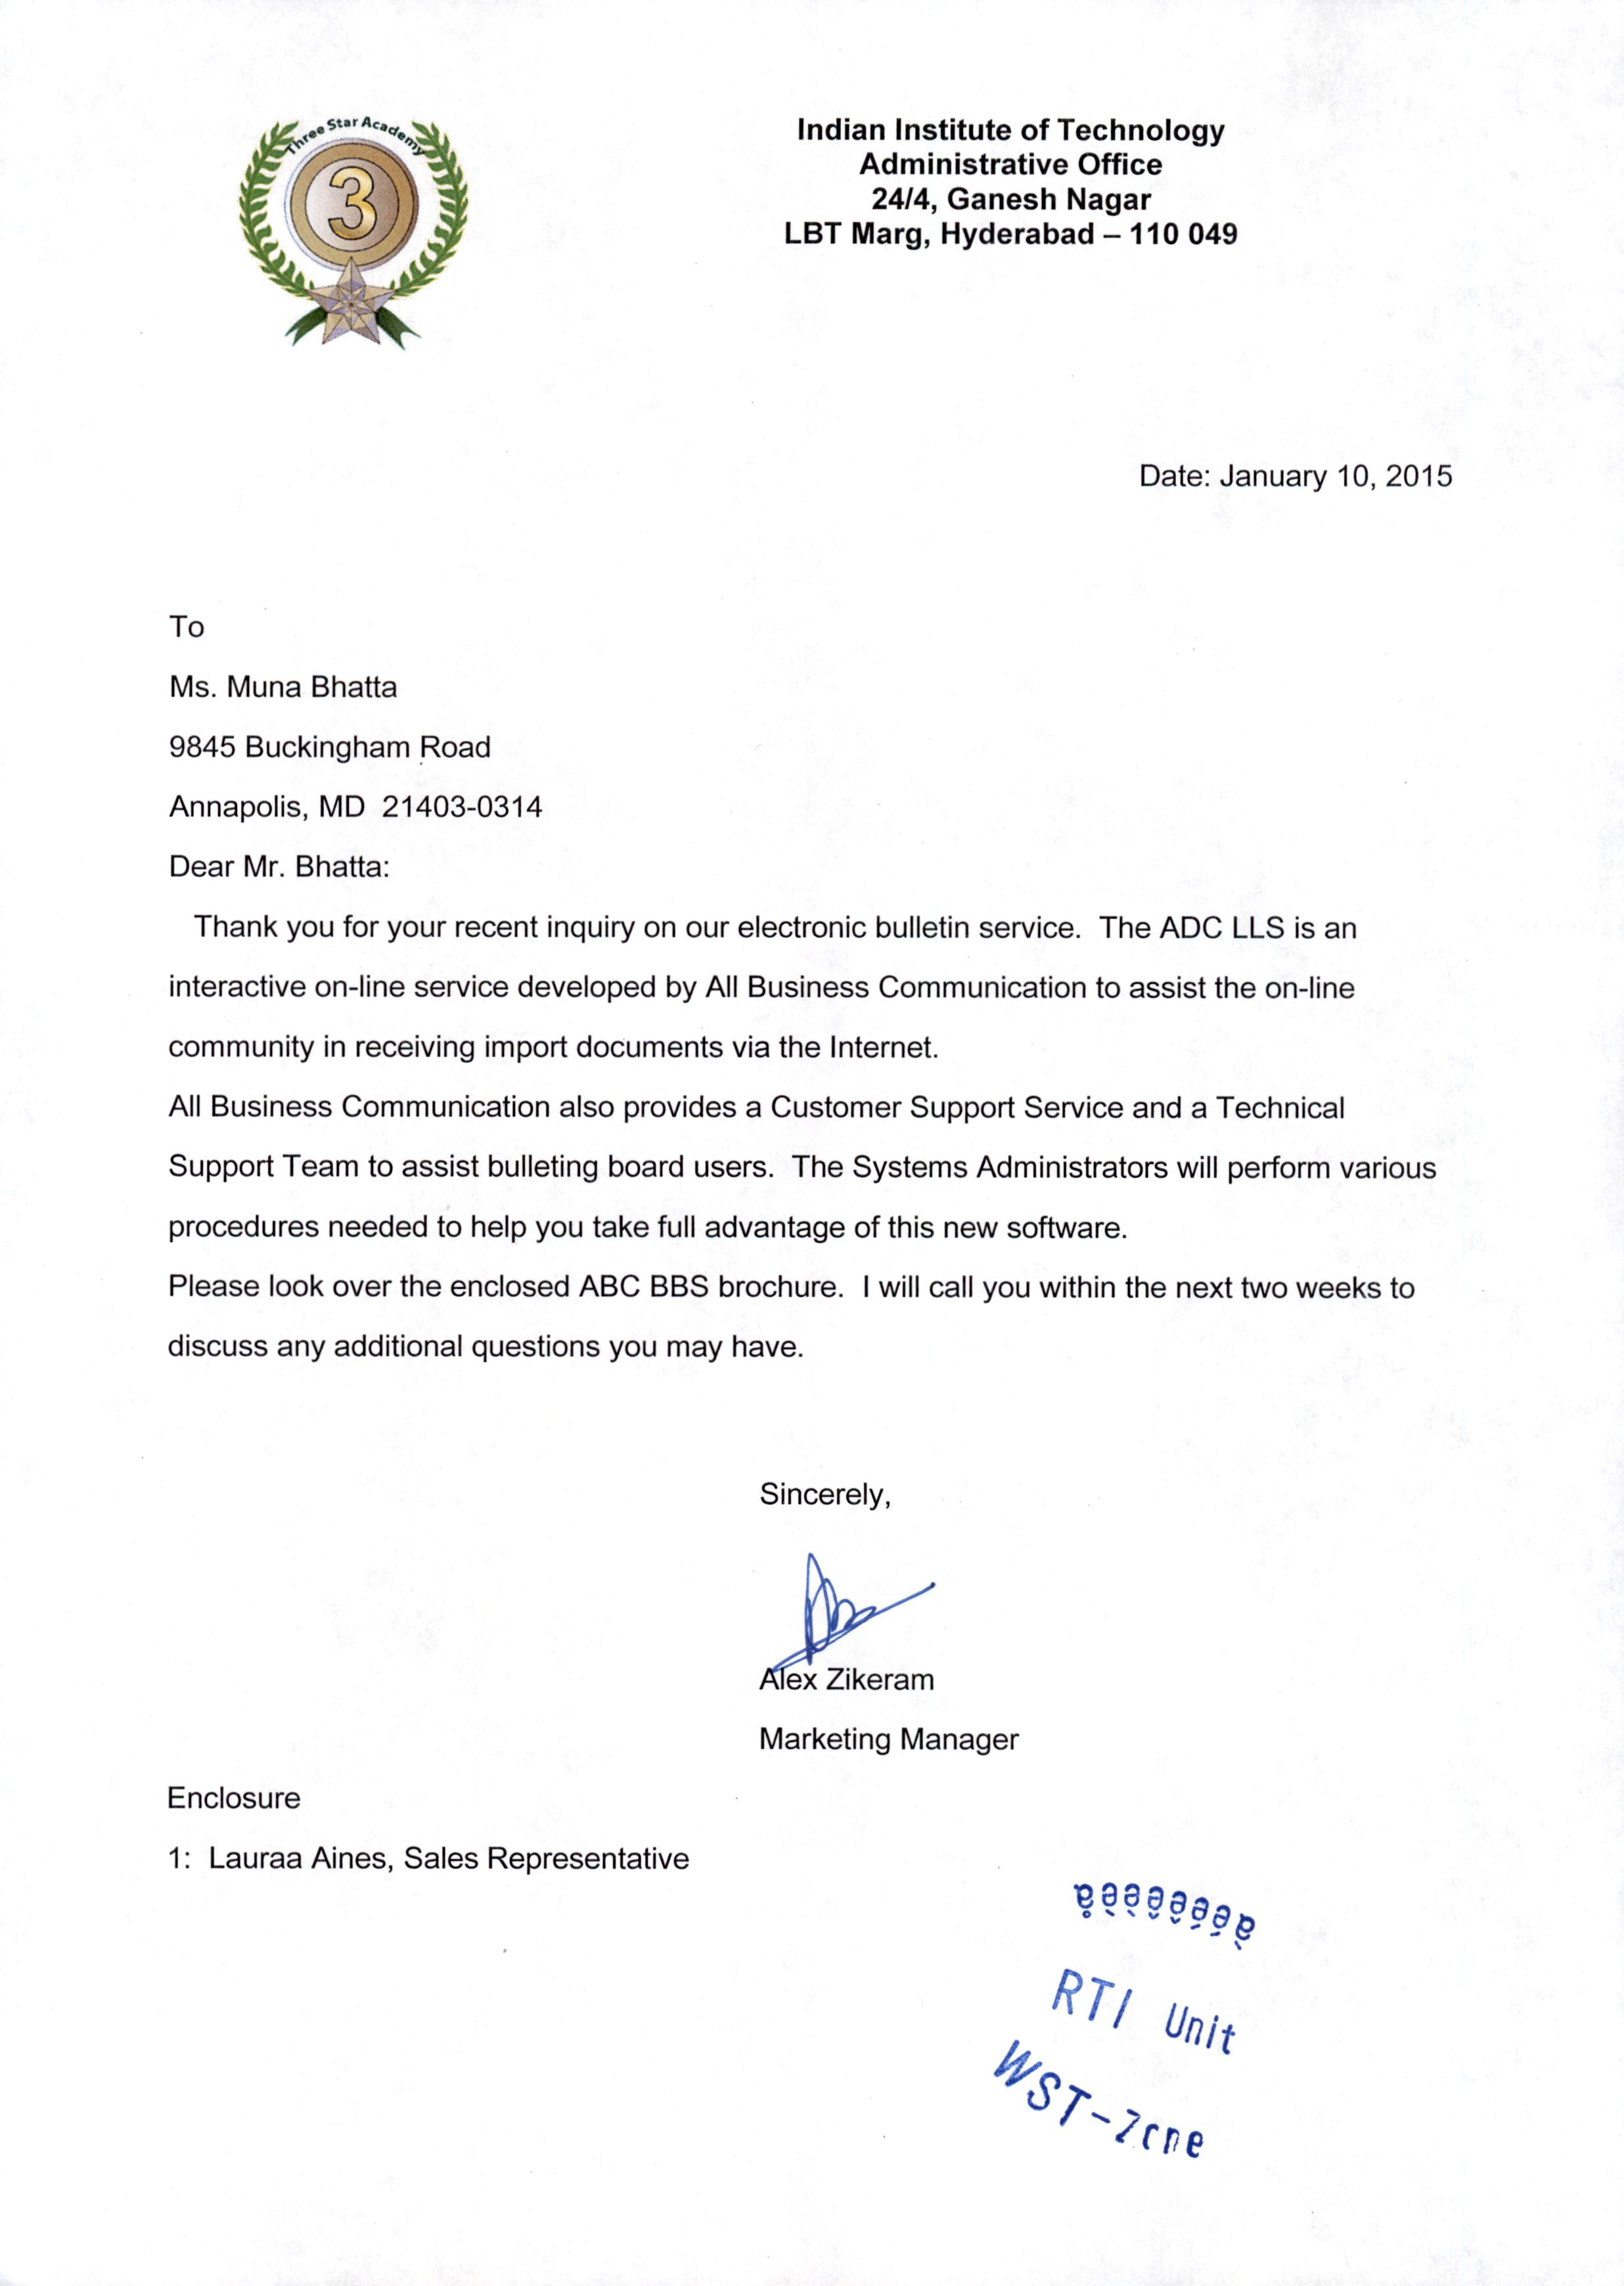Signature: (752, 1544, 940, 1666)
